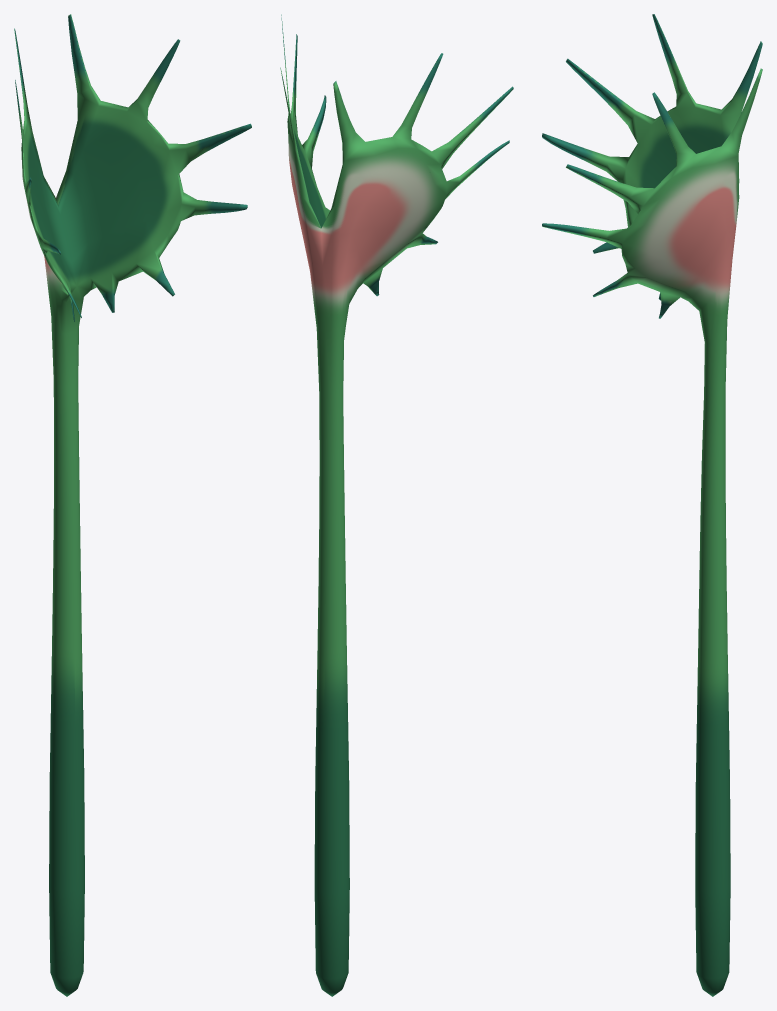
File: Plants_Capture.fbx
3 views of the same model, side by side, from view 1: azimuth 30°, elevation 25°; view 2: azimuth 150°, elevation 25°; view 3: azimuth 270°, elevation 25° (orthographic).
Parts seen in each view (by area): view 1: Cylinder.023; view 2: Cylinder.023; view 3: Cylinder.023.
Part boxes in pixels (x1,y1,x2,y2): Cylinder.023: (14, 14, 251, 996); Cylinder.023: (280, 14, 513, 996); Cylinder.023: (542, 14, 762, 996).
Size of the model in its own units: 105 by 438 by 92.89.
